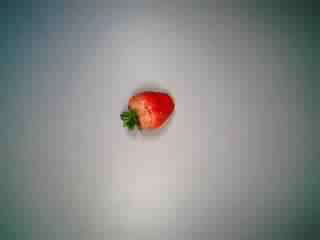strawberry: (113, 79, 179, 141)
